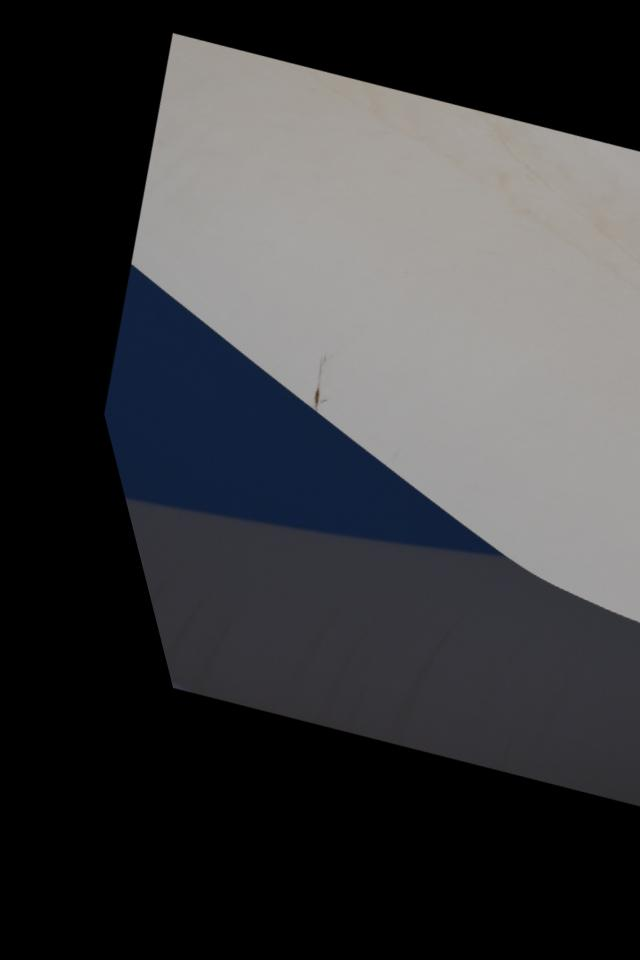damage: (272, 364, 322, 424)
